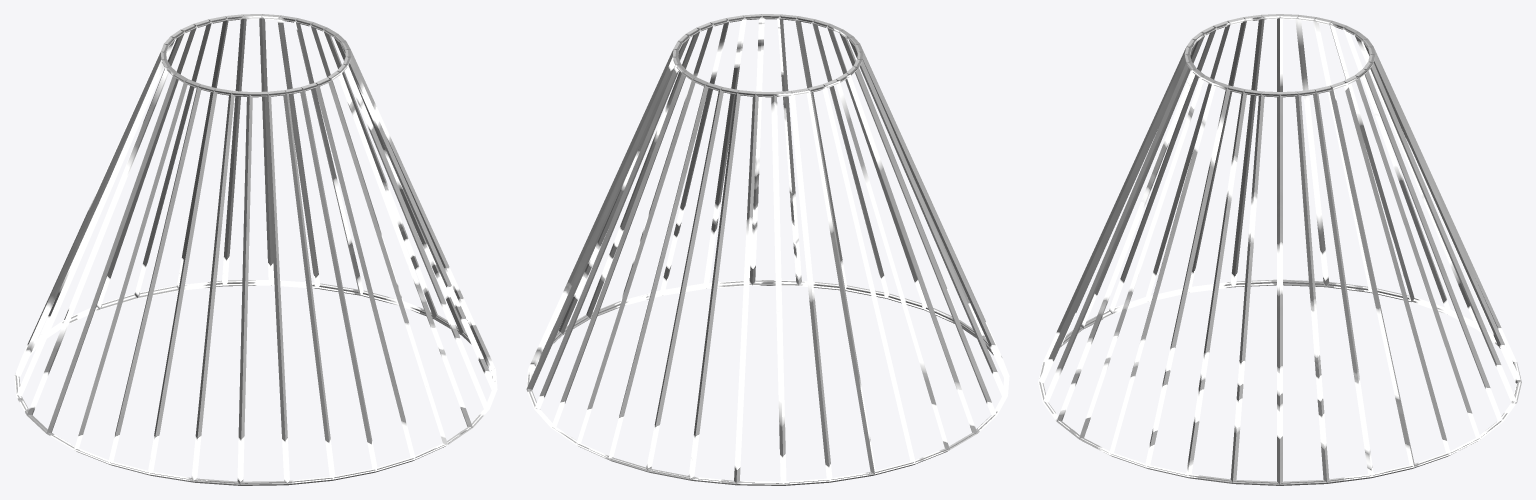
File: coneTime.glb
3 views of the same model, side by side, from view 1: azimuth 30°, elevation 25°; view 2: azimuth 150°, elevation 25°; view 3: azimuth 270°, elevation 25° (orthographic).
Visible parts, largest first — view 1: Cone1.001; view 2: Cone1.001; view 3: Cone1.001.
Boxes of the visible parts, <box> form: Cone1.001: <box>14,14,497,485</box>; Cone1.001: <box>526,14,1009,485</box>; Cone1.001: <box>1038,14,1521,485</box>.
Size of the model in its own units: 2.63 by 1.99 by 2.63.
1 material, 1 textured.
